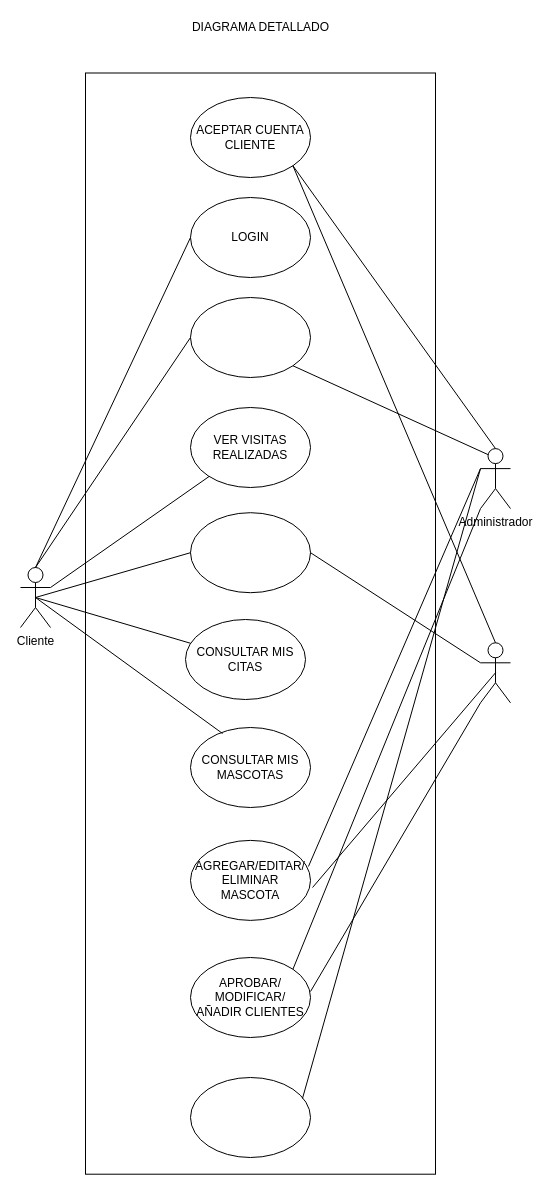
Image size: 550x1192. Some labels were removed from this diagram. Here are the shapes that lost their labels. From the top down, the centre of each, then its label:
At [250,337]: "DAR DE ALTA/BAJA/ MODIFICAR MASCOTA".
At [250,552]: "SOLICITAR CITA PARA MASCOTA".
At [495,672]: "Trabajador".
At [250,1117]: "AÑADIR NUEVAS VISITAS MASCOTAS".
